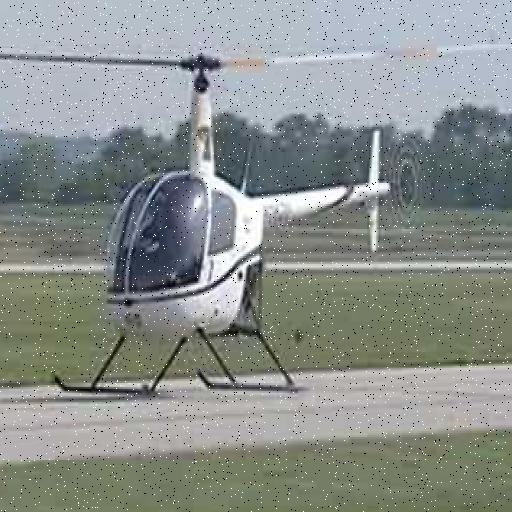helicopter: (1, 46, 486, 398)
